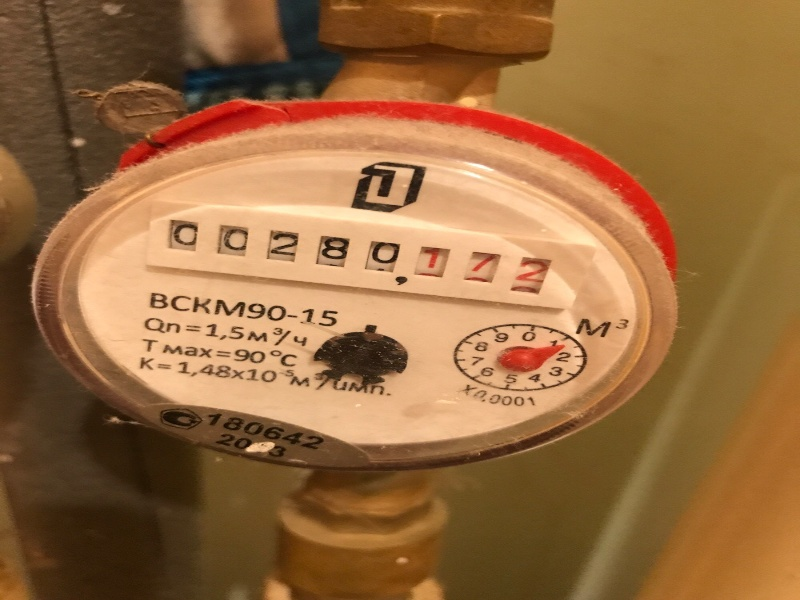meter: (159, 216, 569, 272)
